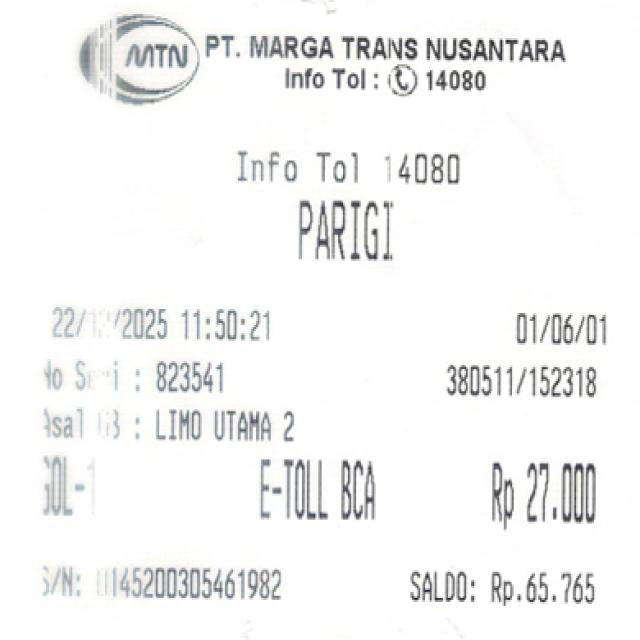date: (35, 300, 305, 345)
store: (214, 24, 570, 66)
total: (469, 451, 606, 531)
